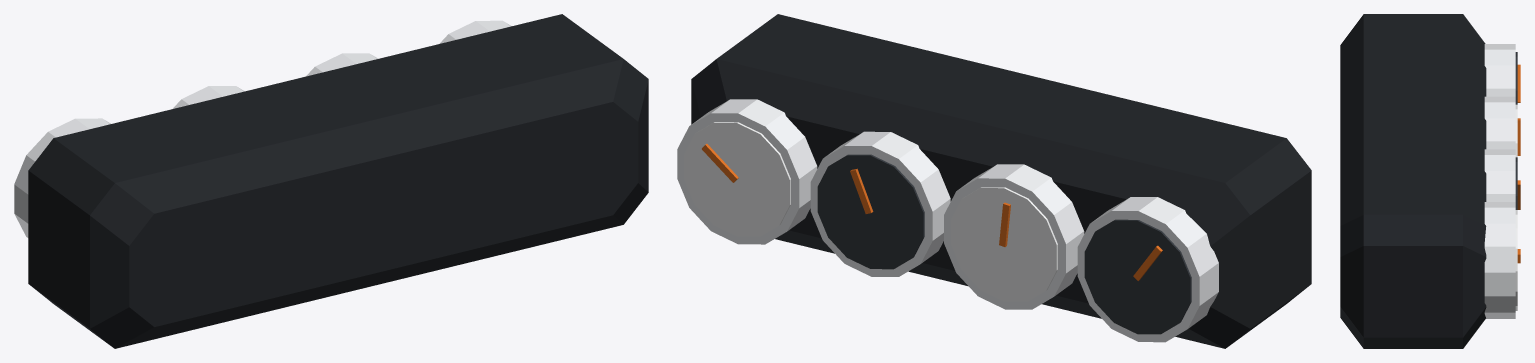
The model's file is brute_500.glb.
3 views of the same model, side by side, from view 1: azimuth 30°, elevation 25°; view 2: azimuth 150°, elevation 25°; view 3: azimuth 270°, elevation 25° (orthographic). The views are drawn at different scales.
Parts seen in each view (by area): view 1: model; view 2: model; view 3: model.
Boxes of the visible parts, bbox=[...] form: model: bbox=[14, 14, 648, 348]; model: bbox=[677, 14, 1311, 348]; model: bbox=[1340, 14, 1520, 348].
Size of the model in its own units: 0.268 by 0.076 by 0.0925.
2 materials, 1 textured.
